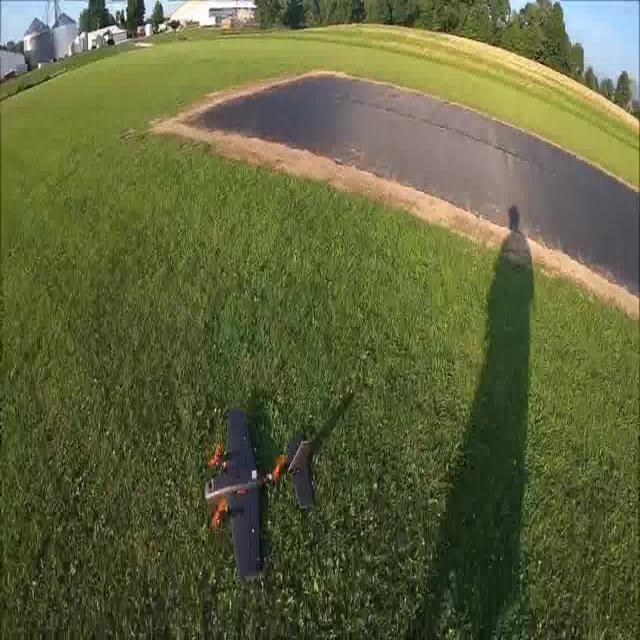iha: (229, 399, 283, 592)
